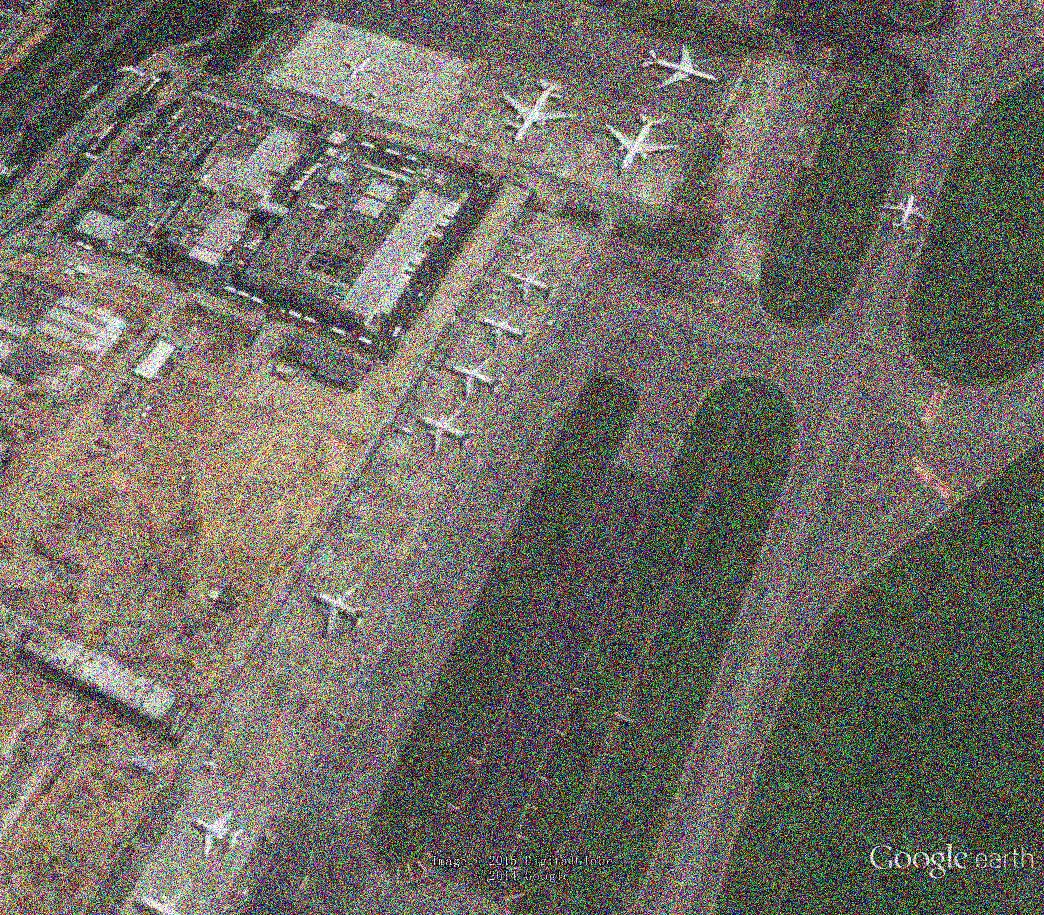aircraft: (500, 76, 583, 146), (600, 110, 684, 175), (632, 40, 723, 95), (309, 581, 377, 641), (414, 407, 480, 457), (444, 353, 509, 401), (189, 810, 246, 863), (475, 308, 535, 355), (506, 265, 563, 307), (881, 192, 933, 236), (342, 51, 384, 82), (707, 296, 725, 311)
